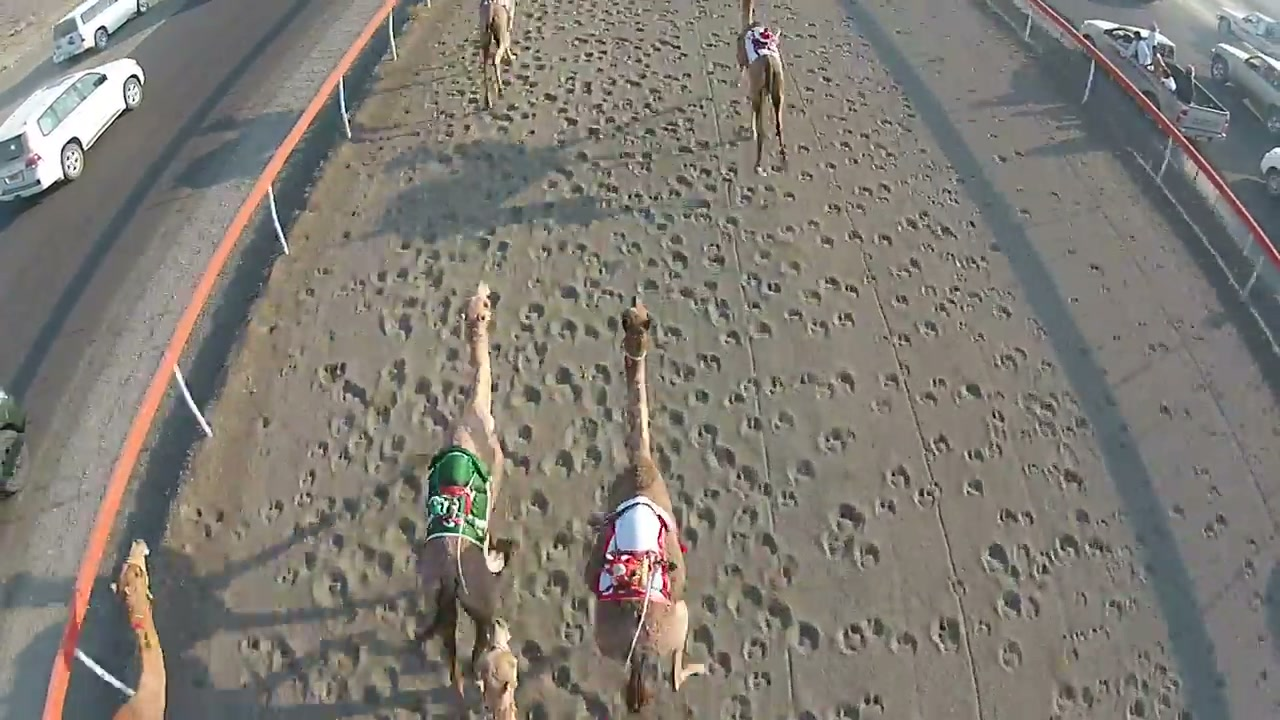animal_foot_print: (157, 0, 1198, 719)
